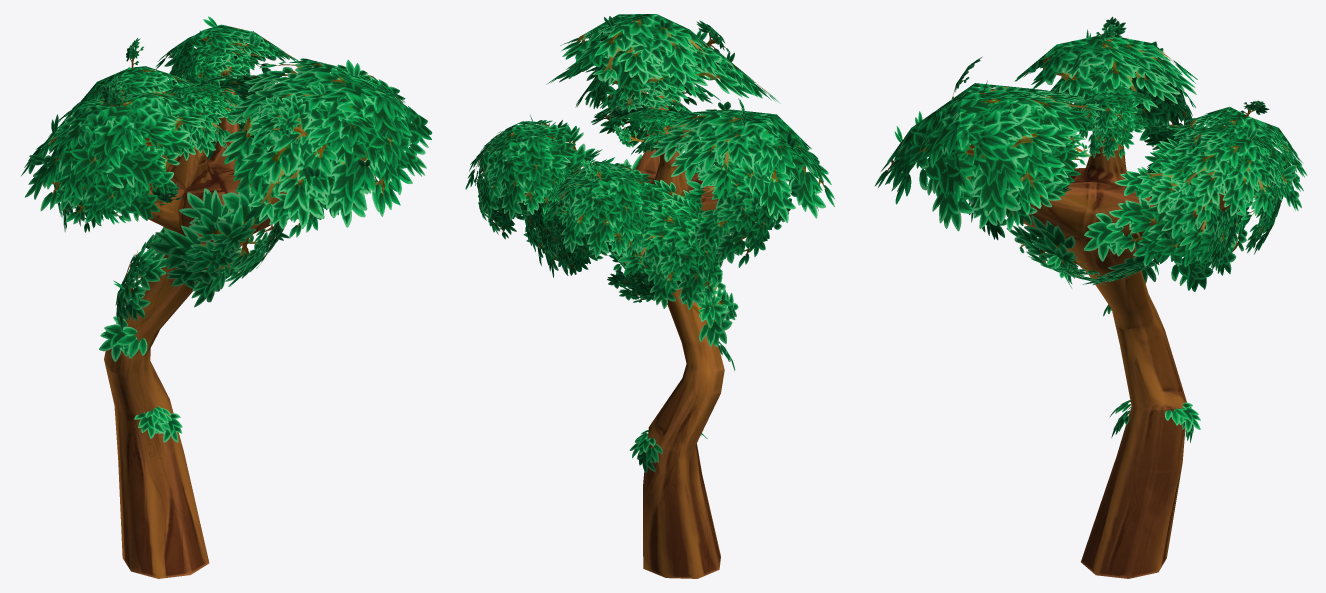
File: 6_Verde_Oscuro.fbx
3 views of the same model, side by side, from view 1: azimuth 30°, elevation 25°; view 2: azimuth 150°, elevation 25°; view 3: azimuth 270°, elevation 25° (orthographic). The views are drawn at different scales.
Parts seen in each view (by area): view 1: 6_Verde_Oscuro; view 2: 6_Verde_Oscuro; view 3: 6_Verde_Oscuro.
Part boxes in pixels (x1,y1,x2,y2): 6_Verde_Oscuro: (21,16,432,578); 6_Verde_Oscuro: (465,14,834,578); 6_Verde_Oscuro: (874,16,1307,578).
Size of the model in its own units: 528 by 768 by 573.
